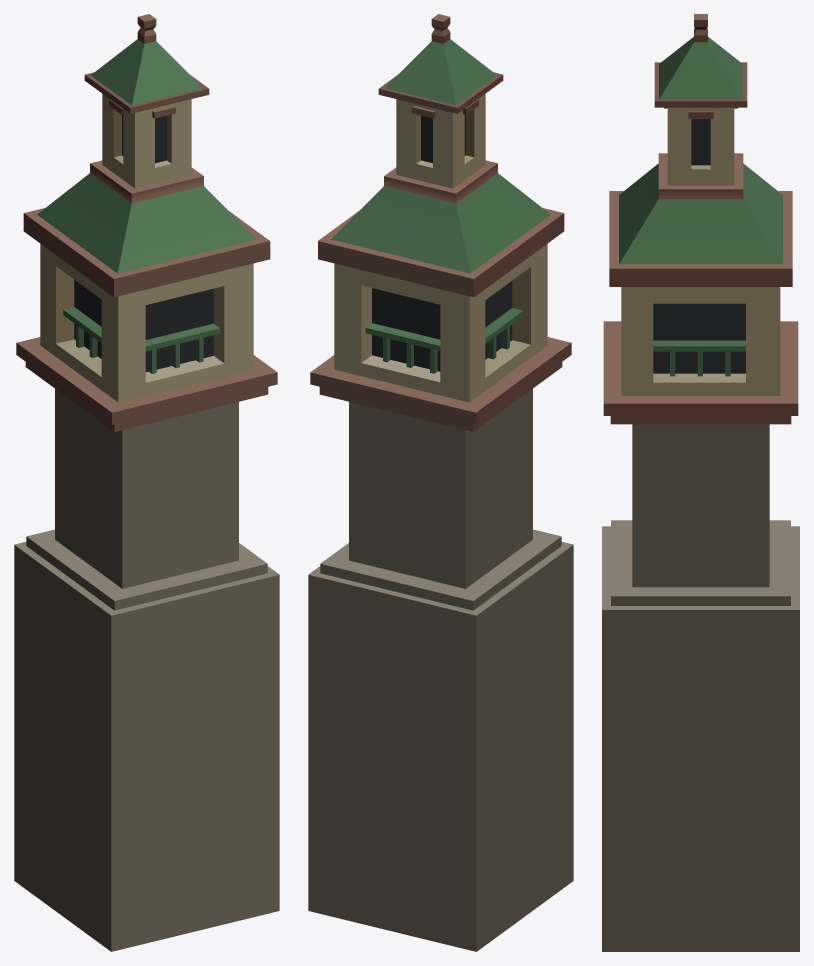
The model's file is SF_Bld_Elven_Castle_Wall_Tower_02.fbx.
The picture shows the model from 3 angles, left to right: view 1: azimuth 30°, elevation 25°; view 2: azimuth 150°, elevation 25°; view 3: azimuth 270°, elevation 25°; orthographic projection.
Parts seen in each view (by area): view 1: SF_Bld_Elven_Castle_Wall_Tower_02; view 2: SF_Bld_Elven_Castle_Wall_Tower_02; view 3: SF_Bld_Elven_Castle_Wall_Tower_02.
Part boxes in pixels (x1=…): SF_Bld_Elven_Castle_Wall_Tower_02: x1=14, y1=14, x2=279, y2=951; SF_Bld_Elven_Castle_Wall_Tower_02: x1=308, y1=14, x2=573, y2=951; SF_Bld_Elven_Castle_Wall_Tower_02: x1=602, y1=14, x2=799, y2=951.
Bounding box in the file's own units: 6.69 × 33.3 × 6.69.
